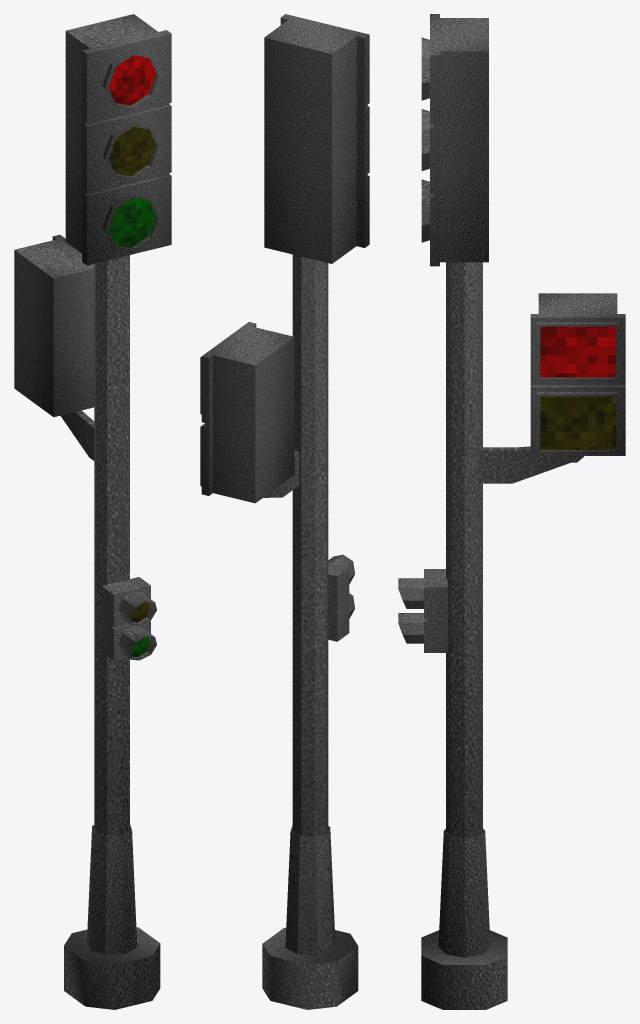
File: Semáforo 2 arreglado.fbx
3 views of the same model, side by side, from view 1: azimuth 30°, elevation 25°; view 2: azimuth 150°, elevation 25°; view 3: azimuth 270°, elevation 25° (orthographic).
Parts seen in each view (by area): view 1: Semáforo_2; view 2: Semáforo_2; view 3: Semáforo_2.
Part boxes in pixels (left/top/right/bottom): Semáforo_2: left=14, top=14, right=171, bottom=1009; Semáforo_2: left=200, top=14, right=369, bottom=1009; Semáforo_2: left=398, top=14, right=625, bottom=1009.
Size of the model in its own units: 19.55 by 211 by 45.52.
